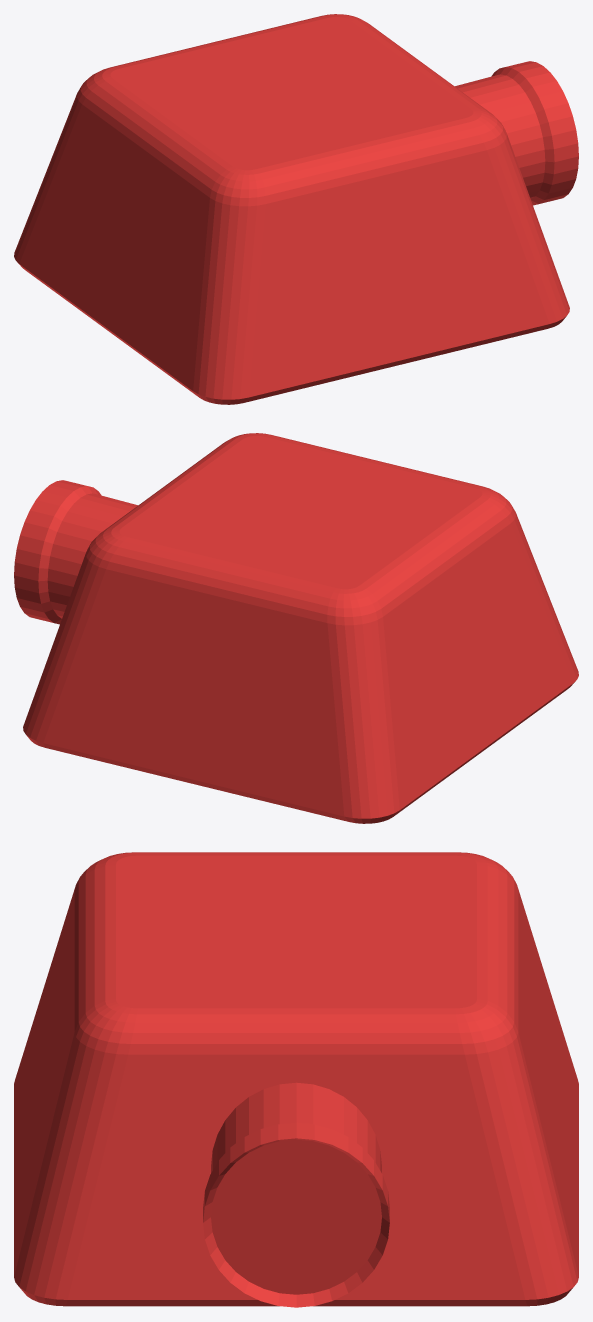
The model's file is KatsayiModeli.fbx.
3 views of the same model, one above another, from view 1: azimuth 30°, elevation 25°; view 2: azimuth 150°, elevation 25°; view 3: azimuth 270°, elevation 25° (orthographic). The views are drawn at different scales.
Parts seen in each view (by area): view 1: Cube.021; view 2: Cube.021; view 3: Cube.021.
Part boxes in pixels (bbox=[...]): Cube.021: bbox=[14, 14, 578, 404]; Cube.021: bbox=[14, 433, 578, 823]; Cube.021: bbox=[14, 852, 578, 1307].
Size of the model in its own units: 2.33 by 1 by 1.98.
